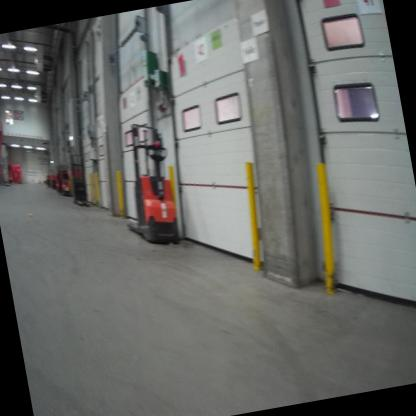pallet_truck: (107, 109, 186, 246), (61, 149, 96, 213), (54, 159, 72, 200), (48, 164, 61, 192), (42, 160, 53, 190)
